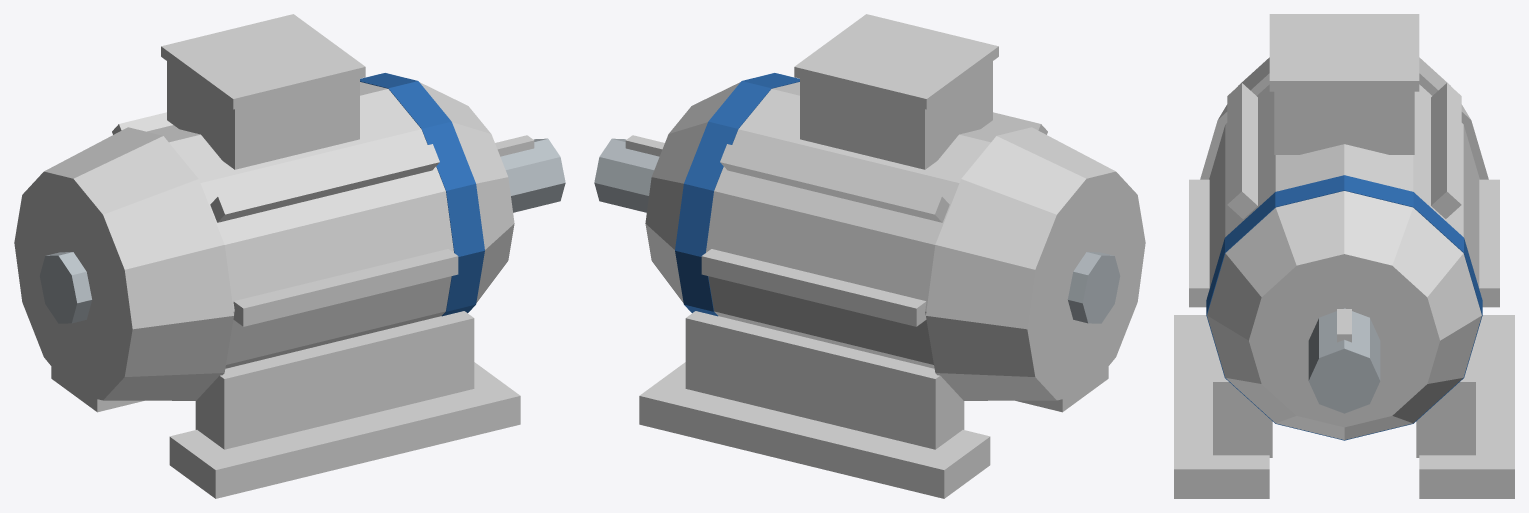
File: motor.glb
The picture shows the model from 3 angles, left to right: view 1: azimuth 30°, elevation 25°; view 2: azimuth 150°, elevation 25°; view 3: azimuth 270°, elevation 25°; orthographic projection. The views are drawn at different scales.
Visible parts, largest first — view 1: fan.cowl, frame, feet.1.web, feet.1.pad, terminal.lid, terminal.box, drive.band, fin.2, fin.1, drive.bell, shaft.stub, fan.hub (+2 smaller); view 2: fan.cowl, frame, feet.0.web, feet.0.pad, terminal.lid, terminal.box, drive.band, fin.6, fin.7, drive.bell, shaft.stub, fan.hub (+2 smaller); view 3: drive.bell, frame, terminal.lid, feet.0.pad, feet.1.pad, terminal.box, shaft.stub, drive.band, feet.0.web, feet.1.web, fin.1, fin.7 (+4 smaller).
Part boxes in pixels (x1,y1,x2,y2): fan.cowl: (14, 127, 233, 400); frame: (147, 82, 453, 368); feet.1.web: (195, 311, 474, 449); feet.1.pad: (169, 362, 520, 498); terminal.lid: (161, 14, 365, 109); terminal.box: (167, 61, 359, 169); drive.band: (360, 73, 484, 316); fin.2: (233, 249, 458, 326); fin.1: (210, 144, 439, 222); drive.bell: (419, 82, 514, 302); shaft.stub: (500, 138, 565, 212); fan.hub: (39, 252, 92, 323); fan.cowl: (926, 127, 1145, 400); frame: (706, 82, 1012, 368); feet.0.web: (685, 311, 964, 449); feet.0.pad: (639, 362, 990, 498); terminal.lid: (794, 14, 998, 109); terminal.box: (800, 61, 992, 169); drive.band: (675, 73, 799, 316); fin.6: (701, 249, 926, 326); fin.7: (720, 144, 949, 222); drive.bell: (645, 82, 740, 302); shaft.stub: (594, 138, 659, 212); fan.hub: (1067, 252, 1120, 323); drive.bell: (1207, 191, 1481, 439); frame: (1207, 84, 1481, 297); terminal.lid: (1269, 14, 1419, 91); feet.0.pad: (1419, 315, 1514, 498); feet.1.pad: (1174, 315, 1269, 498); terminal.box: (1274, 91, 1414, 154); shaft.stub: (1308, 308, 1380, 413); drive.band: (1206, 175, 1482, 440); feet.0.web: (1416, 338, 1475, 457); feet.1.web: (1213, 338, 1272, 457); fin.1: (1227, 83, 1257, 218); fin.7: (1431, 83, 1461, 218).
Bounding box in the file's own units: 0.98 × 0.67 × 0.57.
